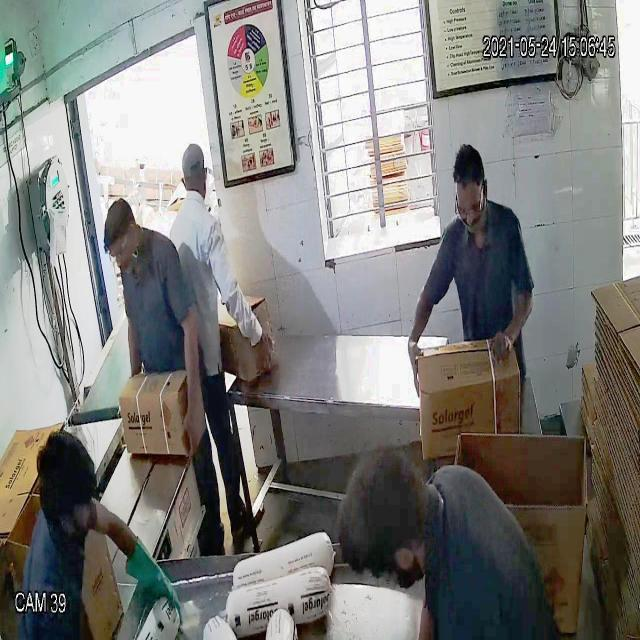glasses: (452, 188, 486, 224), (104, 230, 136, 268)
